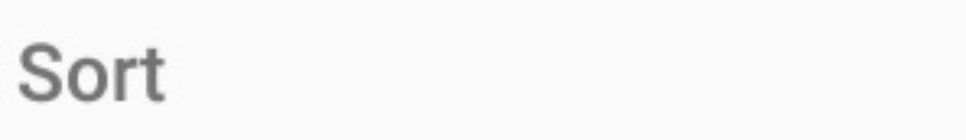TextView: (1, 1, 965, 139)
